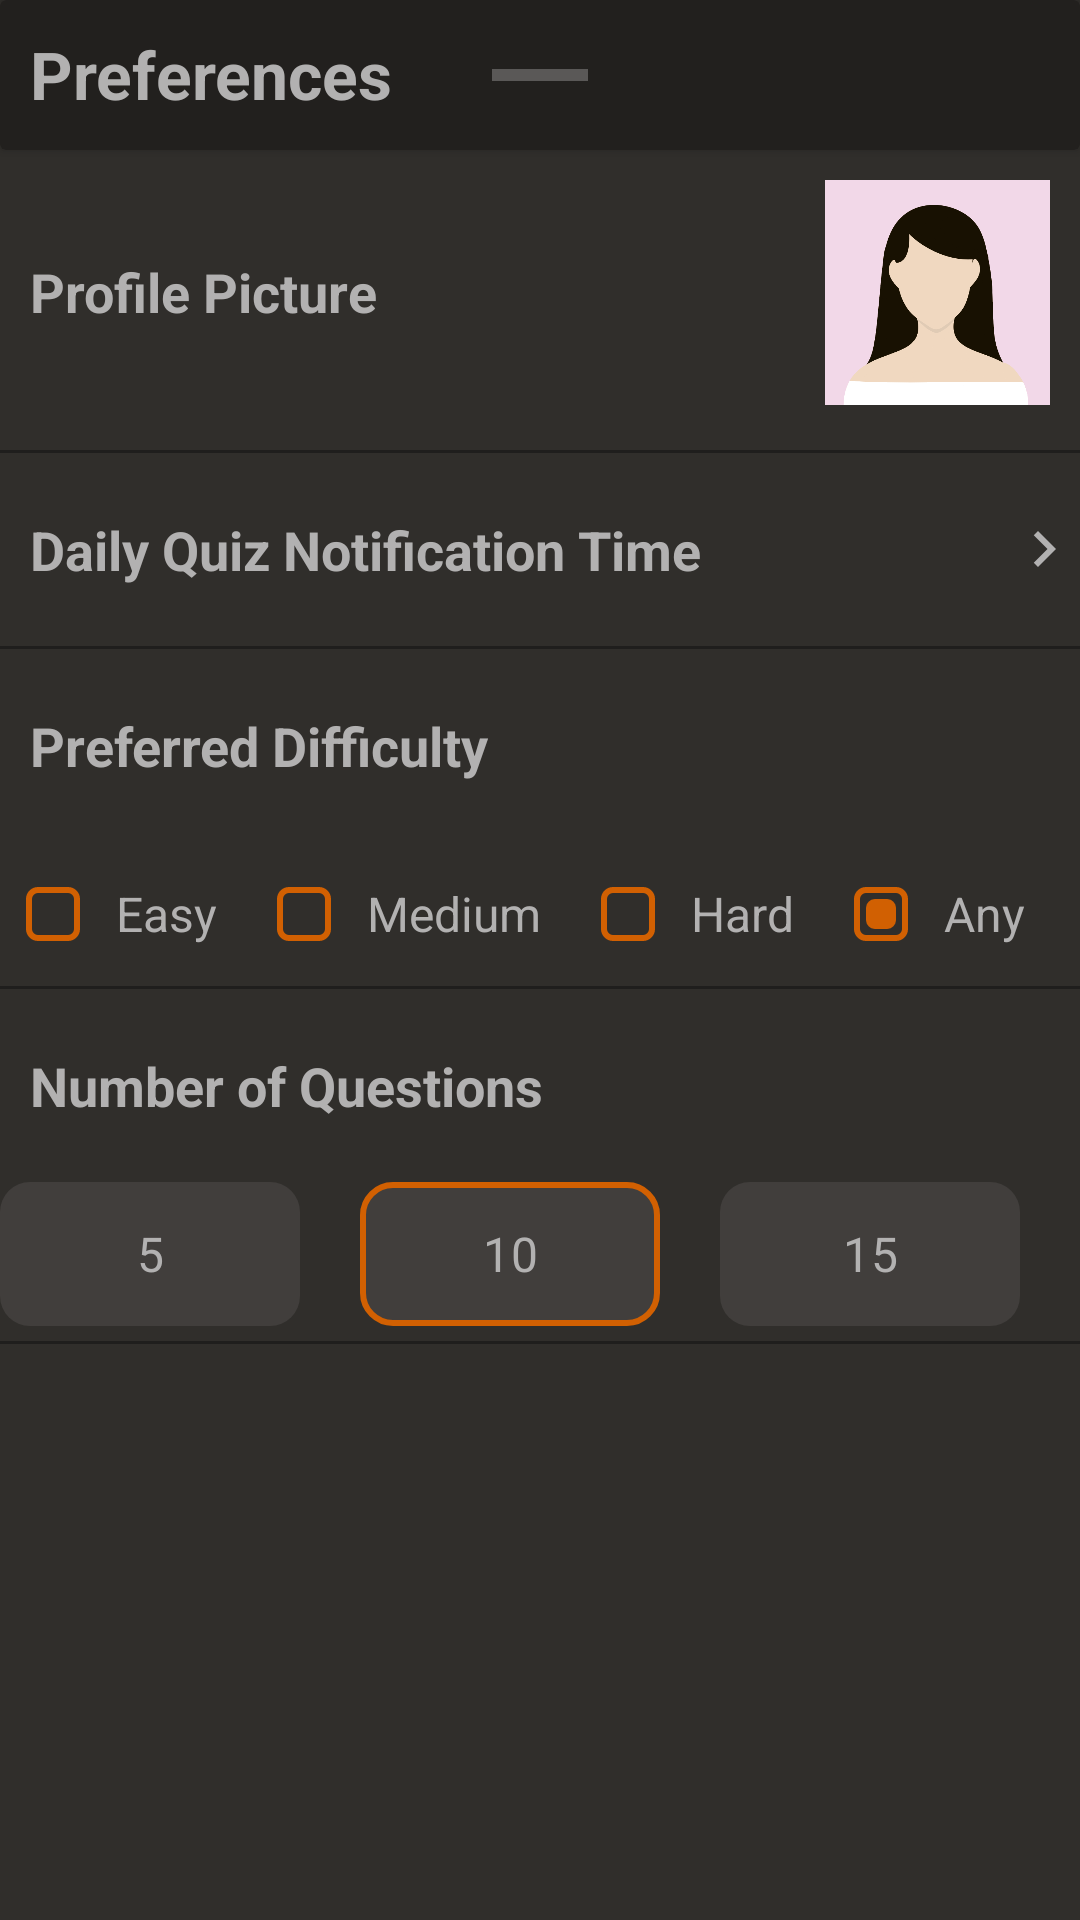

Point at icon controls on the screen. Image size 1080x1920, points as [x,y].
User Profile Picture: [937,292]
